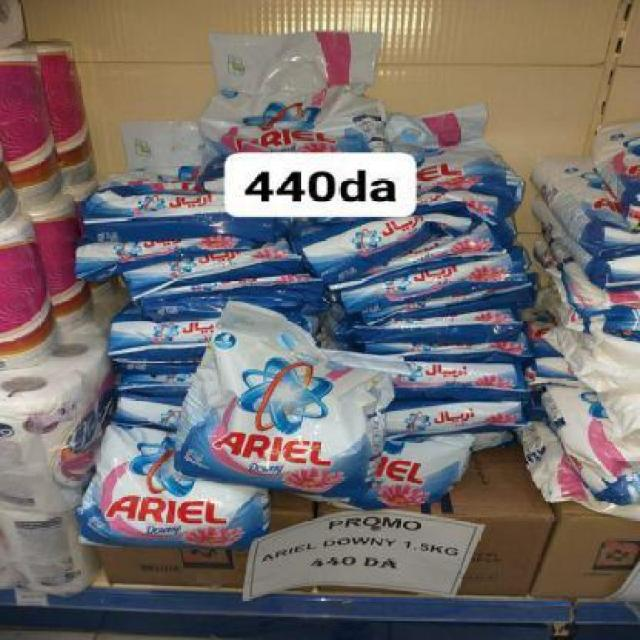Detergent: (163, 330, 389, 502), (203, 0, 377, 152), (75, 444, 283, 538), (306, 212, 512, 270), (125, 240, 306, 306), (309, 218, 516, 274), (82, 181, 263, 245), (346, 428, 482, 501)
